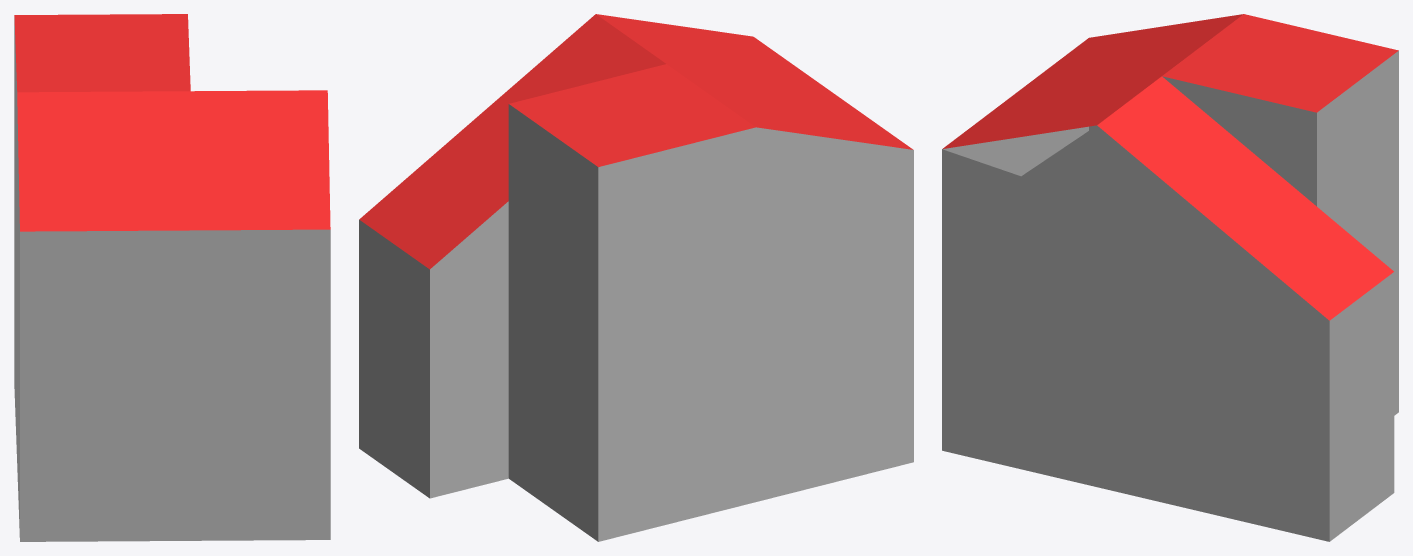
Rendered from pb-96357311-7f36-11f0-925f-9c7bef4dcf4c.dae.
The picture shows the model from 3 angles, left to right: view 1: azimuth 30°, elevation 25°; view 2: azimuth 150°, elevation 25°; view 3: azimuth 270°, elevation 25°; orthographic projection. The views are drawn at different scales.
Bounding box in the file's own units: 10.81 × 10.3 × 9.
